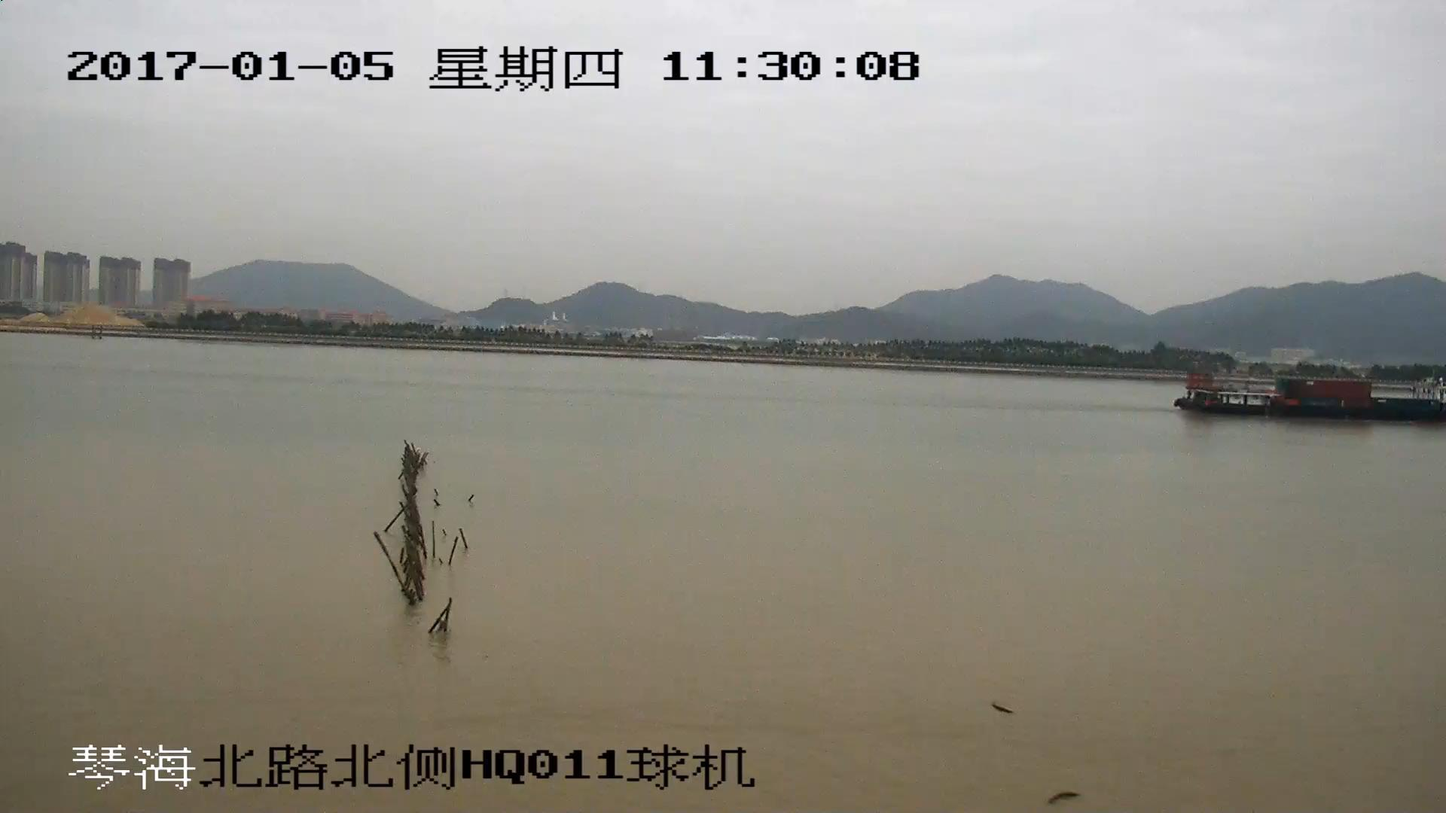container ship: (1175, 370, 1445, 421)
